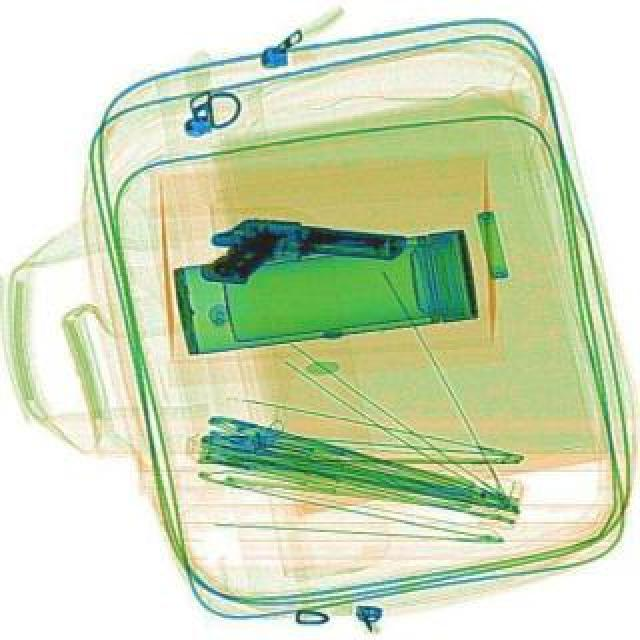gun: (198, 208, 406, 304)
